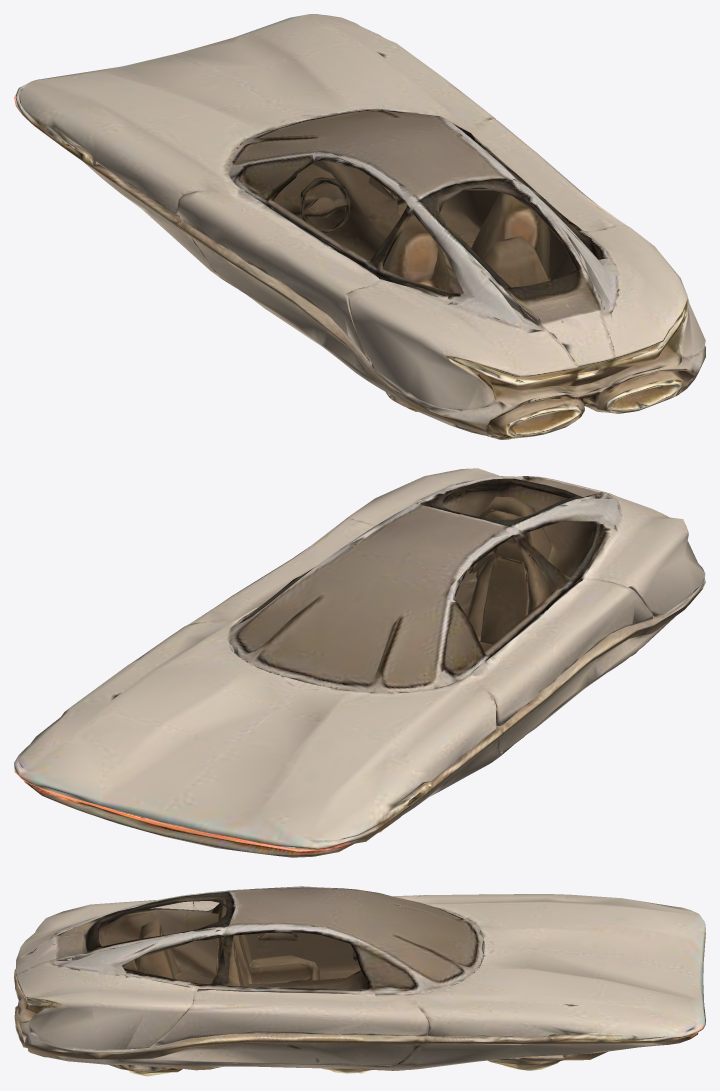
File: car-a.glb
3 renders of one model, top to bottom at view 1: azimuth 30°, elevation 25°; view 2: azimuth 150°, elevation 25°; view 3: azimuth 270°, elevation 25°, orthographic. The views are drawn at different scales.
Visible parts, largest first — view 1: SM_car_a; view 2: SM_car_a; view 3: SM_car_a.
Boxes of the visible parts, x1,y1,x2,y2 form: SM_car_a: (14, 14, 705, 439); SM_car_a: (14, 468, 705, 857); SM_car_a: (14, 886, 705, 1076).
Size of the model in its own units: 0.4508 by 0.2096 by 0.9796.
1 material, 1 textured.
